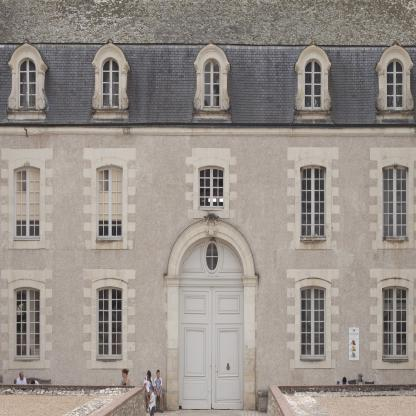Building Outline: (1, 0, 416, 411)
Cornice: (164, 213, 259, 280), (8, 39, 48, 73), (193, 39, 231, 73), (92, 39, 131, 72), (375, 41, 414, 74), (294, 41, 332, 74)
Dont: (0, 368, 164, 416), (267, 372, 416, 416)
Door: (179, 287, 244, 410)
Facade: (1, 0, 416, 411)
Floor: (0, 136, 416, 258)
Floor Slab: (0, 128, 416, 136), (0, 258, 167, 265), (255, 258, 416, 265)
Ground Floor: (0, 265, 416, 411)
Pillar: (244, 280, 256, 410), (167, 280, 179, 410)
Roof: (0, 0, 416, 128)
Top Floor: (0, 0, 416, 127)
Window: (14, 167, 40, 238), (300, 166, 326, 237), (300, 286, 326, 357), (382, 286, 408, 357), (97, 286, 122, 358), (97, 166, 122, 238), (15, 287, 40, 358), (383, 166, 408, 237), (198, 166, 224, 208), (304, 60, 322, 110), (386, 59, 404, 109), (19, 59, 36, 109), (102, 59, 119, 109), (203, 59, 220, 109)
